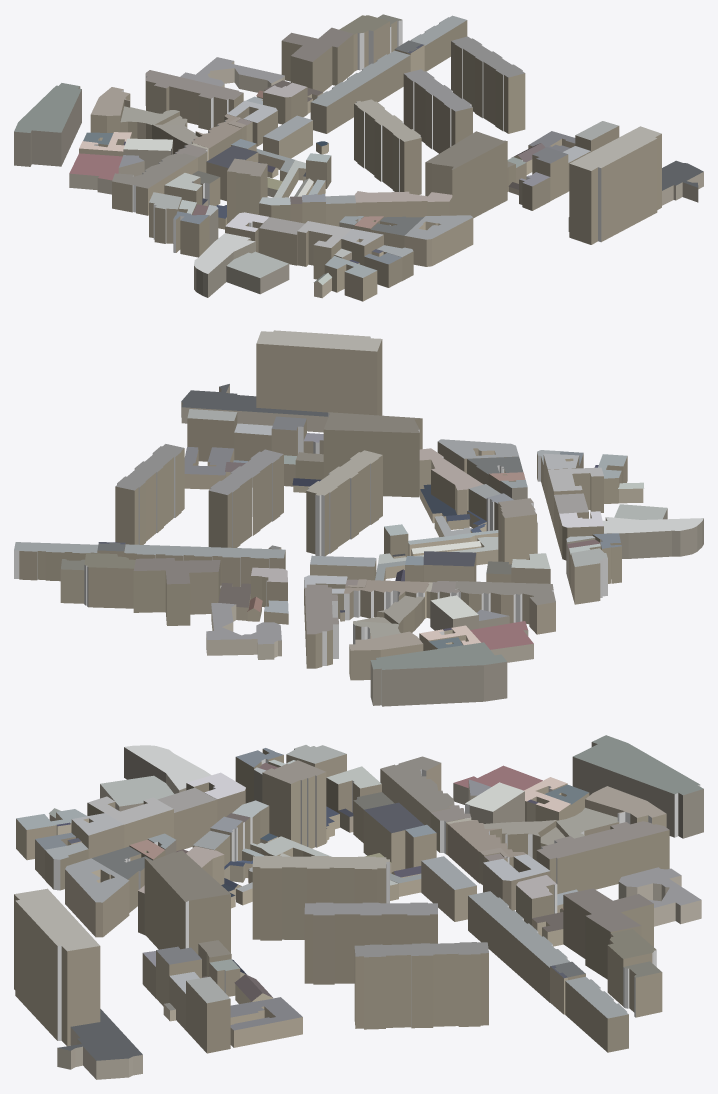
3 renders of one model, top to bottom at view 1: azimuth 30°, elevation 25°; view 2: azimuth 150°, elevation 25°; view 3: azimuth 270°, elevation 25°, orthographic. The views are drawn at different scales.
Parts seen in each view (by area): view 1: tuile; view 2: tuile; view 3: tuile.
Part boxes in pixels (x1=…): tuile: x1=14, y1=14, x2=703, y2=301; tuile: x1=14, y1=330, x2=703, y2=706; tuile: x1=14, y1=735, x2=703, y2=1079.
Size of the model in its own units: 299 by 45.93 by 284.
